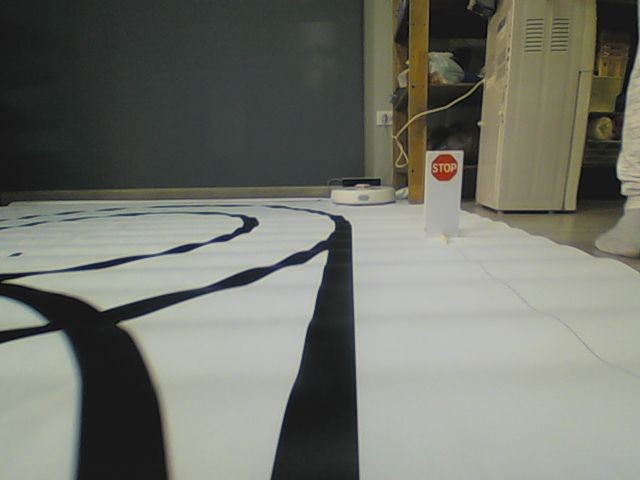Stop: (428, 152, 459, 182)
